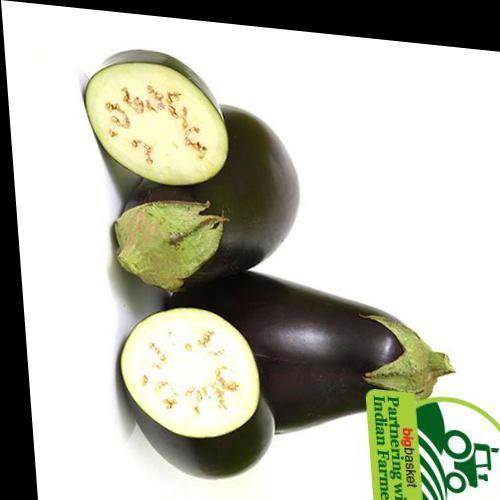eggplant: (70, 56, 315, 385)
